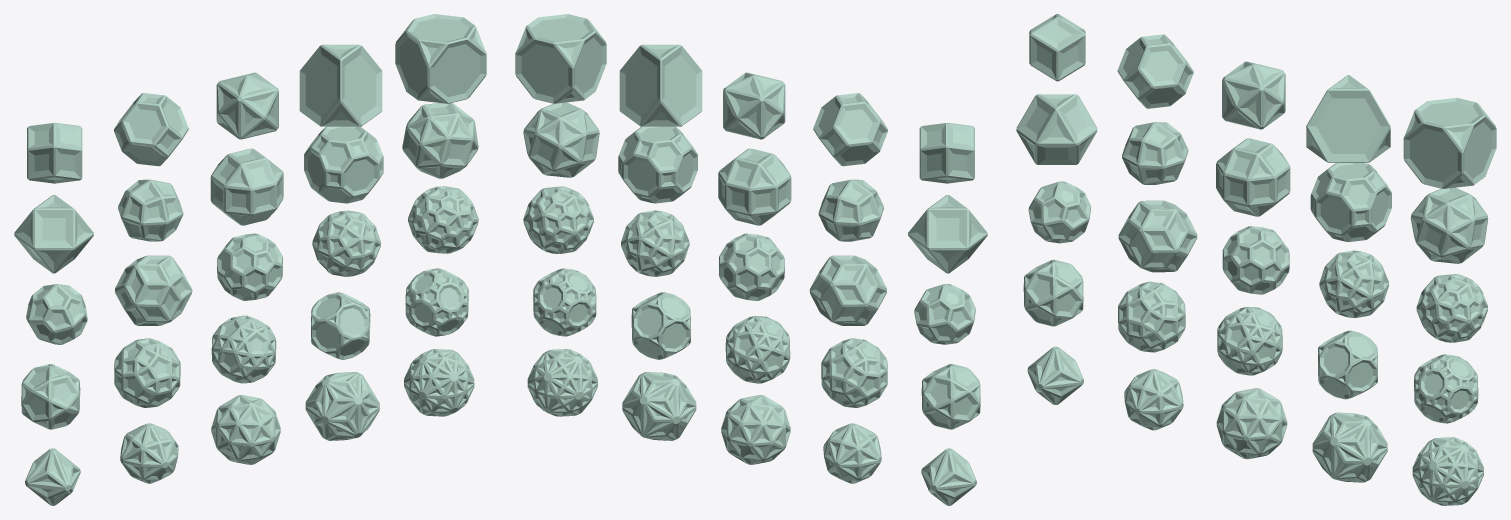
Rendered from geometric_shape_pack_01.FBX.
3 views of the same model, side by side, from view 1: azimuth 30°, elevation 25°; view 2: azimuth 150°, elevation 25°; view 3: azimuth 330°, elevation 25° (orthographic).
Visible parts, largest first — view 1: geometric_shape_005, geometric_shape_004, geometric_shape_009, geometric_shape_010, geometric_shape_008, geometric_shape_012, geometric_shape_024, geometric_shape_002, geometric_shape_017, geometric_shape_006, geometric_shape_023, geometric_shape_025 (+13 smaller); view 2: geometric_shape_005, geometric_shape_004, geometric_shape_009, geometric_shape_010, geometric_shape_008, geometric_shape_012, geometric_shape_024, geometric_shape_002, geometric_shape_017, geometric_shape_006, geometric_shape_023, geometric_shape_025 (+13 smaller); view 3: geometric_shape_005, geometric_shape_004, geometric_shape_009, geometric_shape_010, geometric_shape_008, geometric_shape_006, geometric_shape_012, geometric_shape_024, geometric_shape_002, geometric_shape_017, geometric_shape_023, geometric_shape_025 (+13 smaller).
Boxes of the visible parts, left/top/right/bottom form: geometric_shape_005: left=395, top=14, right=486, bottom=103; geometric_shape_004: left=299, top=44, right=382, bottom=126; geometric_shape_009: left=304, top=126, right=383, bottom=203; geometric_shape_010: left=402, top=103, right=478, bottom=178; geometric_shape_008: left=210, top=148, right=283, bottom=225; geometric_shape_012: left=115, top=255, right=192, bottom=325; geometric_shape_024: left=305, top=372, right=379, bottom=440; geometric_shape_002: left=114, top=93, right=188, bottom=166; geometric_shape_017: left=114, top=338, right=180, bottom=407; geometric_shape_006: left=14, top=195, right=93, bottom=273; geometric_shape_023: left=211, top=395, right=280, bottom=464; geometric_shape_025: left=404, top=349, right=474, bottom=416; geometric_shape_005: left=515, top=14, right=606, bottom=103; geometric_shape_004: left=619, top=44, right=702, bottom=126; geometric_shape_009: left=618, top=126, right=697, bottom=203; geometric_shape_010: left=523, top=102, right=599, bottom=177; geometric_shape_008: left=718, top=148, right=791, bottom=225; geometric_shape_012: left=809, top=255, right=886, bottom=325; geometric_shape_024: left=622, top=372, right=696, bottom=440; geometric_shape_002: left=813, top=93, right=887, bottom=166; geometric_shape_017: left=821, top=338, right=887, bottom=407; geometric_shape_006: left=908, top=195, right=987, bottom=273; geometric_shape_023: left=721, top=395, right=790, bottom=464; geometric_shape_025: left=527, top=349, right=597, bottom=416; geometric_shape_005: left=1403, top=98, right=1496, bottom=188; geometric_shape_004: left=1306, top=75, right=1390, bottom=162; geometric_shape_009: left=1310, top=162, right=1391, bottom=241; geometric_shape_010: left=1410, top=187, right=1488, bottom=263; geometric_shape_008: left=1216, top=138, right=1290, bottom=216; geometric_shape_006: left=1016, top=94, right=1097, bottom=164; geometric_shape_012: left=1118, top=200, right=1197, bottom=272; geometric_shape_024: left=1312, top=412, right=1387, bottom=482; geometric_shape_002: left=1117, top=34, right=1193, bottom=108; geometric_shape_017: left=1118, top=281, right=1185, bottom=352; geometric_shape_023: left=1216, top=388, right=1287, bottom=459; geometric_shape_025: left=1412, top=437, right=1483, bottom=505.
Size of the model in its own units: 459 by 378 by 73.07.
